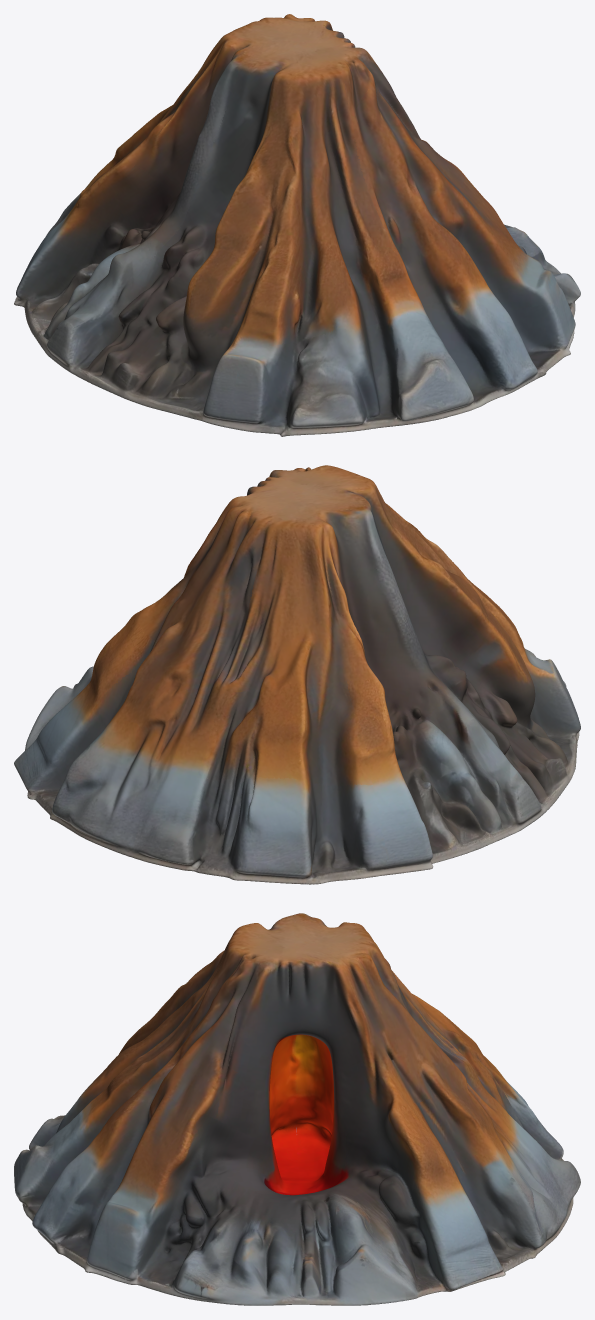
3 views of the same model, one above another, from view 1: azimuth 30°, elevation 25°; view 2: azimuth 150°, elevation 25°; view 3: azimuth 270°, elevation 25° (orthographic). The views are drawn at different scales.
Parts seen in each view (by area): view 1: tripo_node_e3282467-dd34-438c-aeac-b29efe1c8297; view 2: tripo_node_e3282467-dd34-438c-aeac-b29efe1c8297; view 3: tripo_node_e3282467-dd34-438c-aeac-b29efe1c8297.
Boxes of the visible parts, <box> form: tripo_node_e3282467-dd34-438c-aeac-b29efe1c8297: <box>14,14,580,436</box>; tripo_node_e3282467-dd34-438c-aeac-b29efe1c8297: <box>14,465,580,884</box>; tripo_node_e3282467-dd34-438c-aeac-b29efe1c8297: <box>14,913,580,1305</box>.
Size of the model in its own units: 0.9131 by 0.4966 by 1.
Materials: 1 (1 with a texture image).
